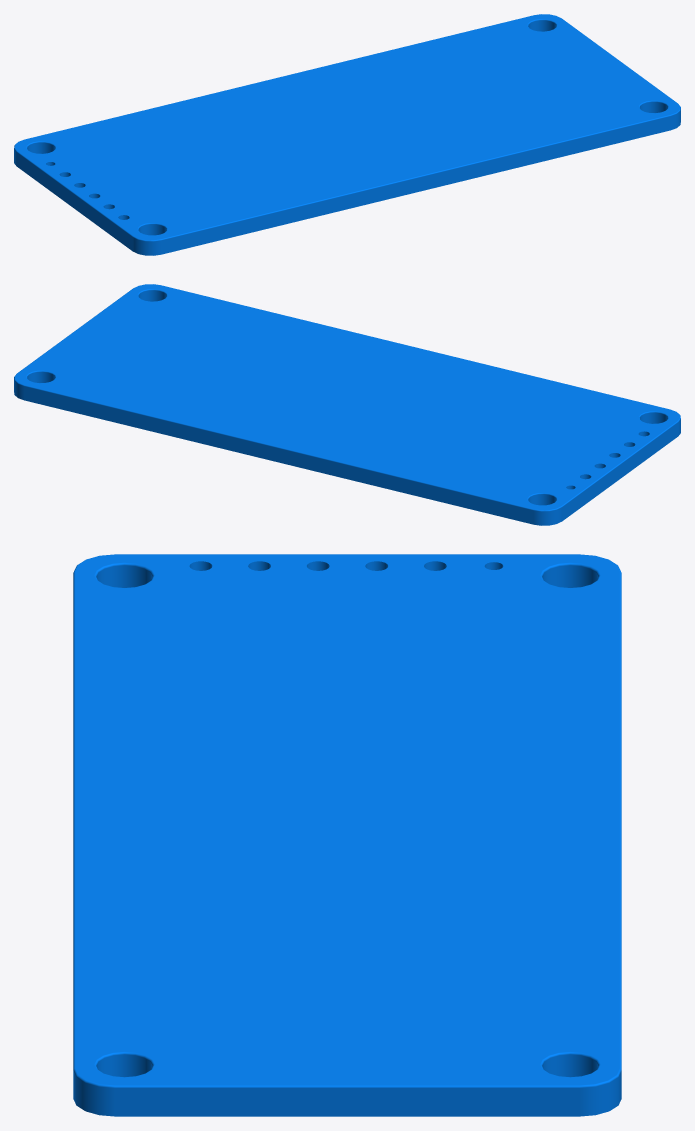
The model's file is PCA9685_v18_229.gltf.
3 views of the same model, one above another, from view 1: azimuth 30°, elevation 25°; view 2: azimuth 150°, elevation 25°; view 3: azimuth 270°, elevation 25° (orthographic). The views are drawn at different scales.
Parts seen in each view (by area): view 1: mesh6983, mesh6975, mesh6971, mesh6977, mesh6973; view 2: mesh6983, mesh6967, mesh6971, mesh6970, mesh6969; view 3: mesh6983, mesh6964, mesh6970, mesh6977, mesh6966, mesh6963, mesh6965, mesh6954, mesh6984, mesh6979, mesh6981.
Part boxes in pixels (x1,y1,x2,y2): mesh6983: (15,14,679,240); mesh6975: (161,116,670,254); mesh6971: (16,152,132,250); mesh6977: (161,115,670,240); mesh6973: (132,237,161,255); mesh6983: (15,284,679,510); mesh6967: (24,386,533,524); mesh6971: (562,422,678,520); mesh6970: (24,385,533,510); mesh6969: (533,507,562,525); mesh6983: (75,554,619,1085); mesh6964: (115,1088,579,1116); mesh6970: (619,571,621,1069); mesh6977: (73,571,75,1069); mesh6966: (115,1085,579,1087); mesh6963: (73,1071,115,1116); mesh6965: (579,1071,621,1116); mesh6954: (96,565,152,587); mesh6984: (542,565,598,587); mesh6979: (96,1054,152,1076); mesh6981: (542,1054,598,1076).
Size of the model in its own units: 0.0602 by 0.0016 by 0.0262.
